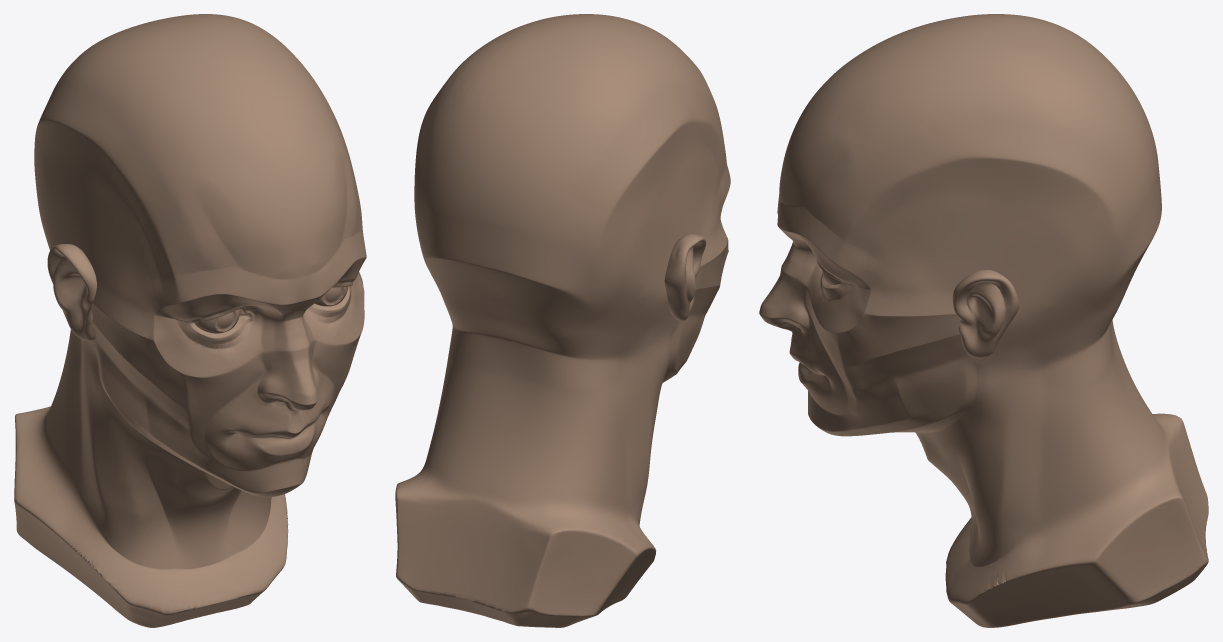
File: head_planes_-_reference.glb
3 views of the same model, side by side, from view 1: azimuth 30°, elevation 25°; view 2: azimuth 150°, elevation 25°; view 3: azimuth 270°, elevation 25° (orthographic). The views are drawn at different scales.
Visible parts, largest first — view 1: Object_3, Object_2, Object_4, Object_5; view 2: Object_2, Object_3, Object_4, Object_5; view 3: Object_2, Object_3, Object_4, Object_5.
Boxes of the visible parts, x1,y1,x2,y2 form: Object_3: (14, 14, 364, 627); Object_2: (15, 15, 366, 603); Object_4: (14, 14, 366, 627); Object_5: (47, 244, 348, 341); Object_2: (396, 20, 730, 626); Object_3: (395, 14, 728, 627); Object_4: (396, 14, 730, 625); Object_5: (664, 234, 706, 321); Object_2: (761, 14, 1208, 626); Object_3: (759, 14, 1207, 627); Object_4: (761, 16, 1208, 627); Object_5: (822, 269, 1019, 358).
Size of the model in its own units: 1.61 by 3.27 by 2.32.
